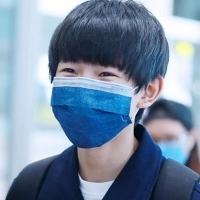face_mask: (55, 42, 136, 139), (141, 121, 187, 174)
